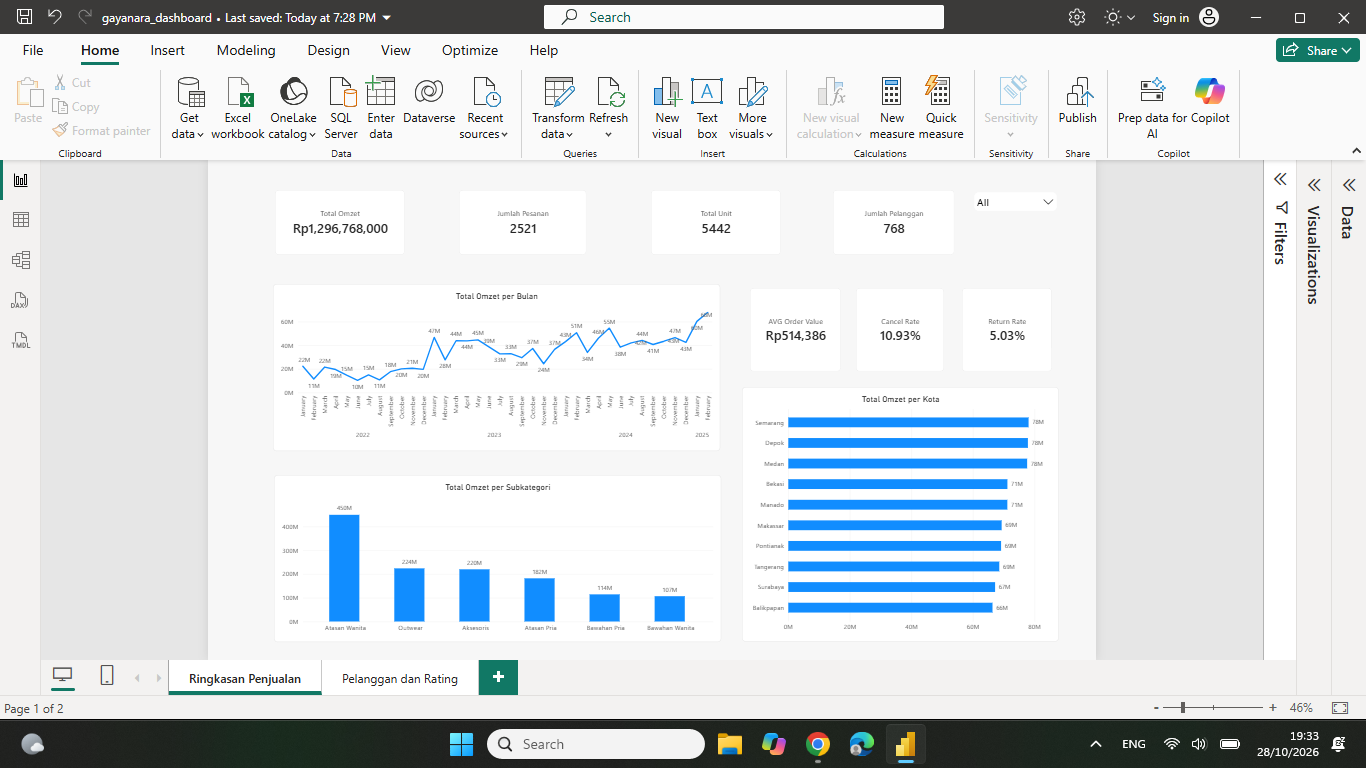

The dashboard page shown, as its layout file describes it:
{"tool":"powerbi","page":{"name":"Ringkasan Penjualan","canvas":[1920,1080],"ordinal":0},"visuals":[{"type":"cardVisual","fields":{"Data":["_MEASURE.Total Omzet"]},"box":[145,65,280,140],"z":0},{"type":"cardVisual","fields":{"Data":["_MEASURE.Jumlah Pesanan"]},"box":[542.5,65,275,140],"z":1000},{"type":"cardVisual","fields":{"Data":["_MEASURE.Total Unit"]},"box":[957.5,65,280,140],"z":2000},{"type":"cardVisual","fields":{"Data":["_MEASURE.Jumlah Pelanggan"]},"box":[1350,65,262.5,140],"z":3000},{"type":"lineChart","title":"Total Omzet per Bulan","fields":{"Category":["orders.order_date.Variation.Date Hierarchy.Year","orders.order_date.Variation.Date Hierarchy.Month"],"Y":["_MEASURE.Total Omzet"]},"box":[141.4,268.6,965.7,361.4],"z":4000},{"type":"slicer","fields":{"Values":["orders.order_date.Variation.Date Hierarchy.Year"]},"box":[1650,65,187.5,340],"z":5000},{"type":"clusteredColumnChart","title":"Total Omzet per Subkategori","fields":{"Category":["products.sub_category"],"Y":["_MEASURE.Total Omzet"]},"box":[142,680,965.7,361.4],"z":6000},{"type":"clusteredBarChart","title":"Total Omzet per Kota","fields":{"Category":["orders.shipping_city"],"Y":["_MEASURE.Total Omzet"]},"box":[1153.4,490.3,684,550],"z":7000},{"type":"cardVisual","fields":{"Data":["_MEASURE.Return Rate"]},"box":[1629.2,277.1,194,180],"z":8000},{"type":"cardVisual","fields":{"Data":["_MEASURE.AVG Order Value"]},"box":[1171.2,277.1,196,180],"z":9000},{"type":"cardVisual","fields":{"Data":["_MEASURE.Cancel Rate"]},"box":[1399.2,277.1,190,180],"z":10000}]}

Visuals, with their boxes on the page's 1920x1080 design canvas (x1, y1, x2, y2). These are canvas units, not pixel positions in the 1366x768 screenshot, which may show the page scaled, cropped or inside an application window:
cardVisual - _MEASURE.Total Omzet: (left=145, top=65, right=425, bottom=205)
cardVisual - _MEASURE.Jumlah Pesanan: (left=542, top=65, right=818, bottom=205)
cardVisual - _MEASURE.Total Unit: (left=958, top=65, right=1238, bottom=205)
cardVisual - _MEASURE.Jumlah Pelanggan: (left=1350, top=65, right=1612, bottom=205)
"Total Omzet per Bulan" lineChart: (left=141, top=269, right=1107, bottom=630)
slicer - orders.order_date.Variation.Date Hierarchy.Year: (left=1650, top=65, right=1838, bottom=405)
"Total Omzet per Subkategori" clusteredColumnChart: (left=142, top=680, right=1108, bottom=1041)
"Total Omzet per Kota" clusteredBarChart: (left=1153, top=490, right=1837, bottom=1040)
cardVisual - _MEASURE.Return Rate: (left=1629, top=277, right=1823, bottom=457)
cardVisual - _MEASURE.AVG Order Value: (left=1171, top=277, right=1367, bottom=457)
cardVisual - _MEASURE.Cancel Rate: (left=1399, top=277, right=1589, bottom=457)
